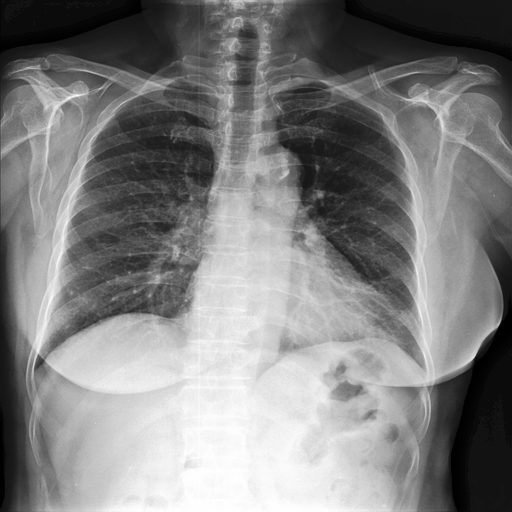Calcification: (268, 75, 314, 93), (170, 75, 212, 87)
Consolidation: (249, 146, 306, 184)
Lung Opacity: (277, 169, 289, 179)
Nodule/Mass: (179, 275, 386, 342)
